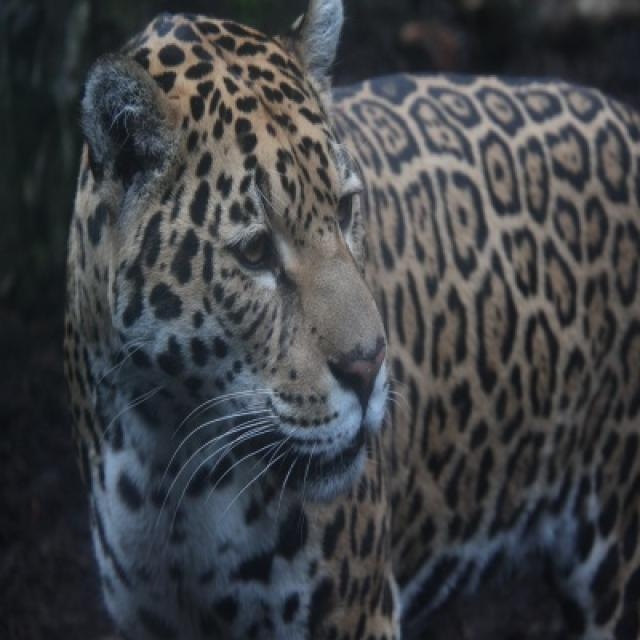Jaguar: (59, 0, 638, 638)
